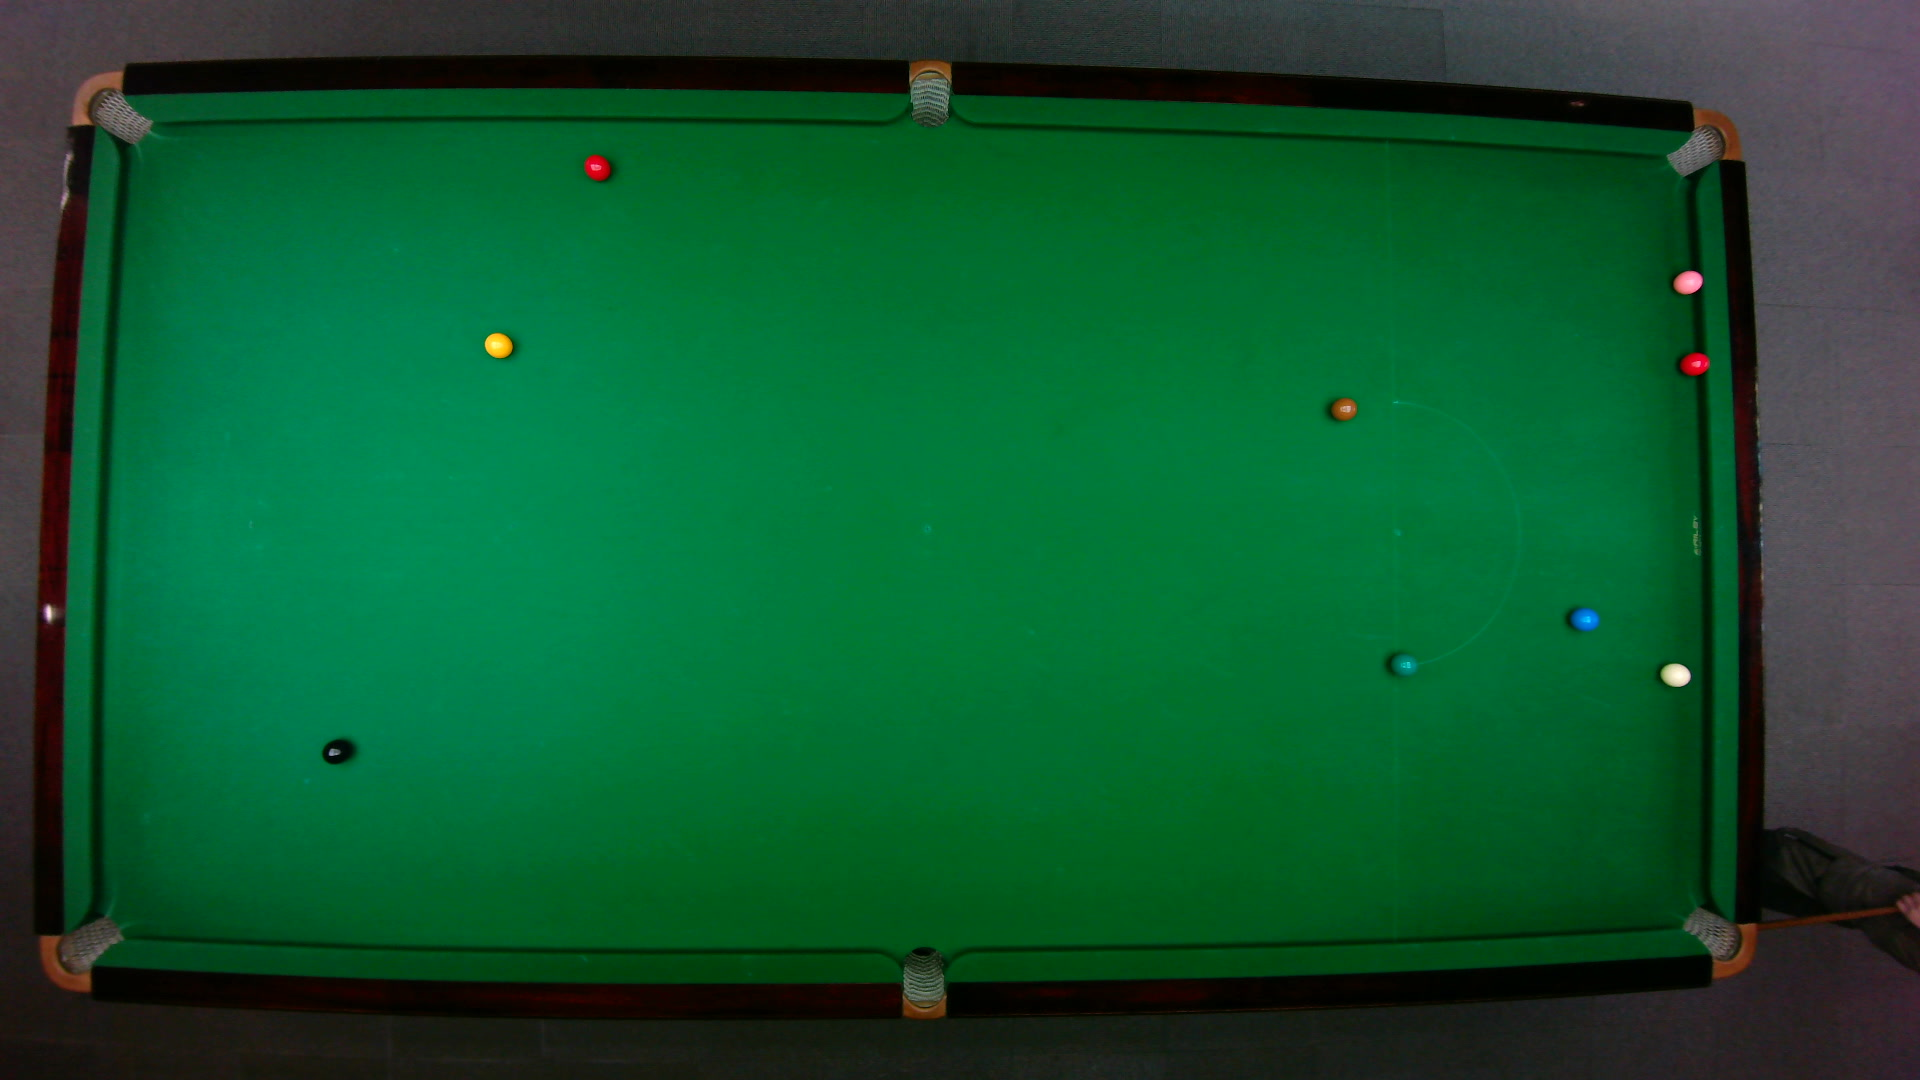bag: (37, 913, 125, 992), (69, 69, 153, 145), (1679, 903, 1756, 978), (1663, 107, 1741, 177), (901, 944, 944, 1021), (909, 57, 949, 128)
black: (320, 736, 352, 765)
blue: (1568, 607, 1600, 632)
brown: (1329, 396, 1358, 421)
green: (1389, 650, 1418, 676)
pink: (1669, 266, 1704, 295)
red: (1677, 349, 1712, 376), (582, 152, 611, 181)
white: (1658, 659, 1692, 687)
yellow: (481, 328, 514, 359)
zone: (1390, 398, 1519, 667)
